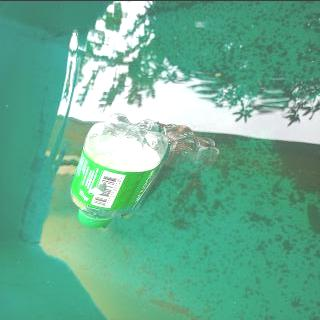bottle: (67, 110, 172, 229)
